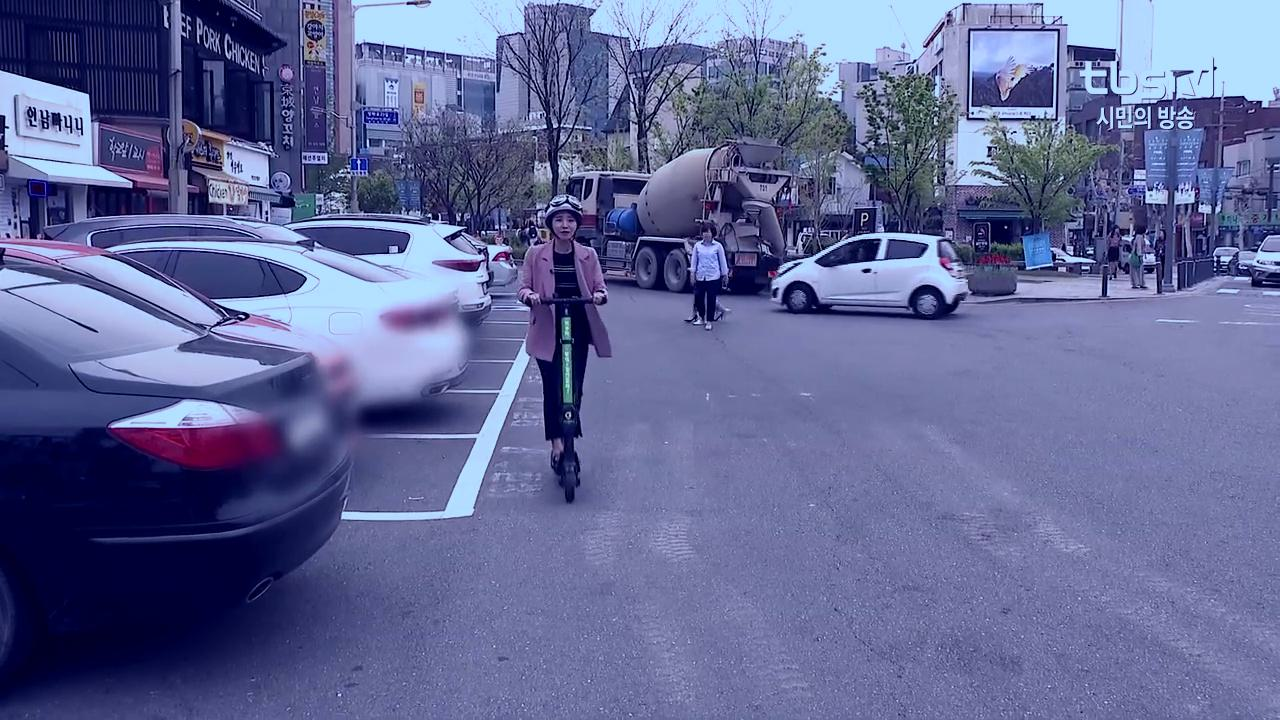helmet: (514, 190, 620, 506)
